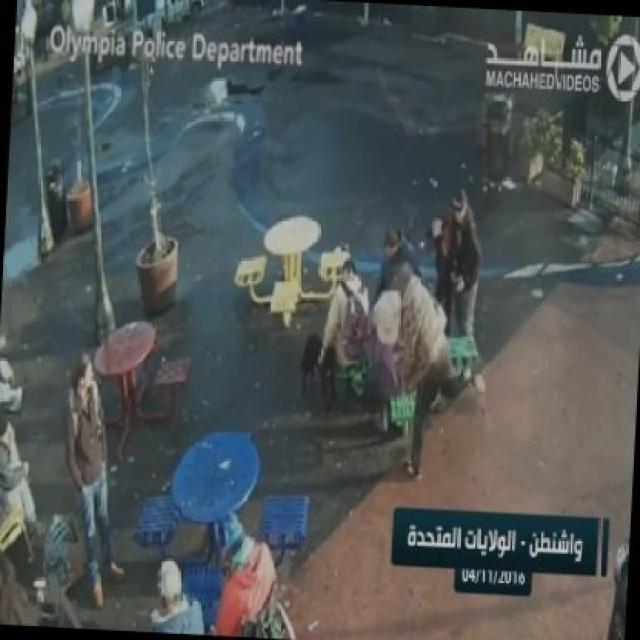non-fight: (61, 357, 132, 616), (313, 249, 382, 414), (140, 554, 211, 637)
